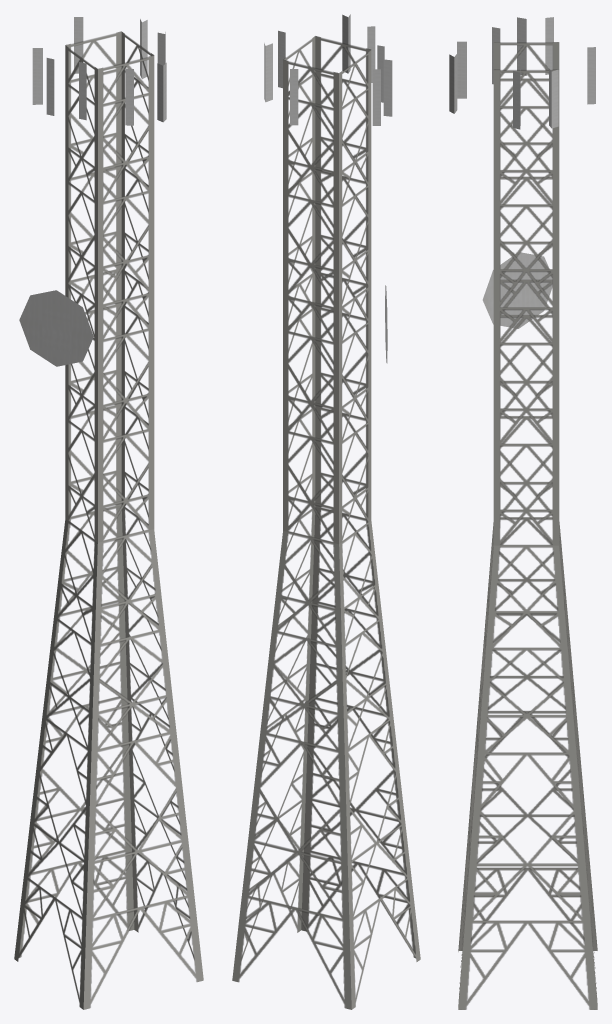
Rendered from tower-radio-60m-cbj_LOD02.gltf.
3 renders of one model, left to right at view 1: azimuth 30°, elevation 25°; view 2: azimuth 150°, elevation 25°; view 3: azimuth 270°, elevation 25°, orthographic.
Visible parts, largest first — view 1: post02; view 2: post02; view 3: post02.
Boxes of the visible parts, x1,y1,x2,y2 form: post02: [14, 17, 203, 1009]; post02: [232, 14, 420, 1009]; post02: [449, 17, 597, 1009].
Size of the model in its own units: 9.37 by 60.65 by 8.74.
